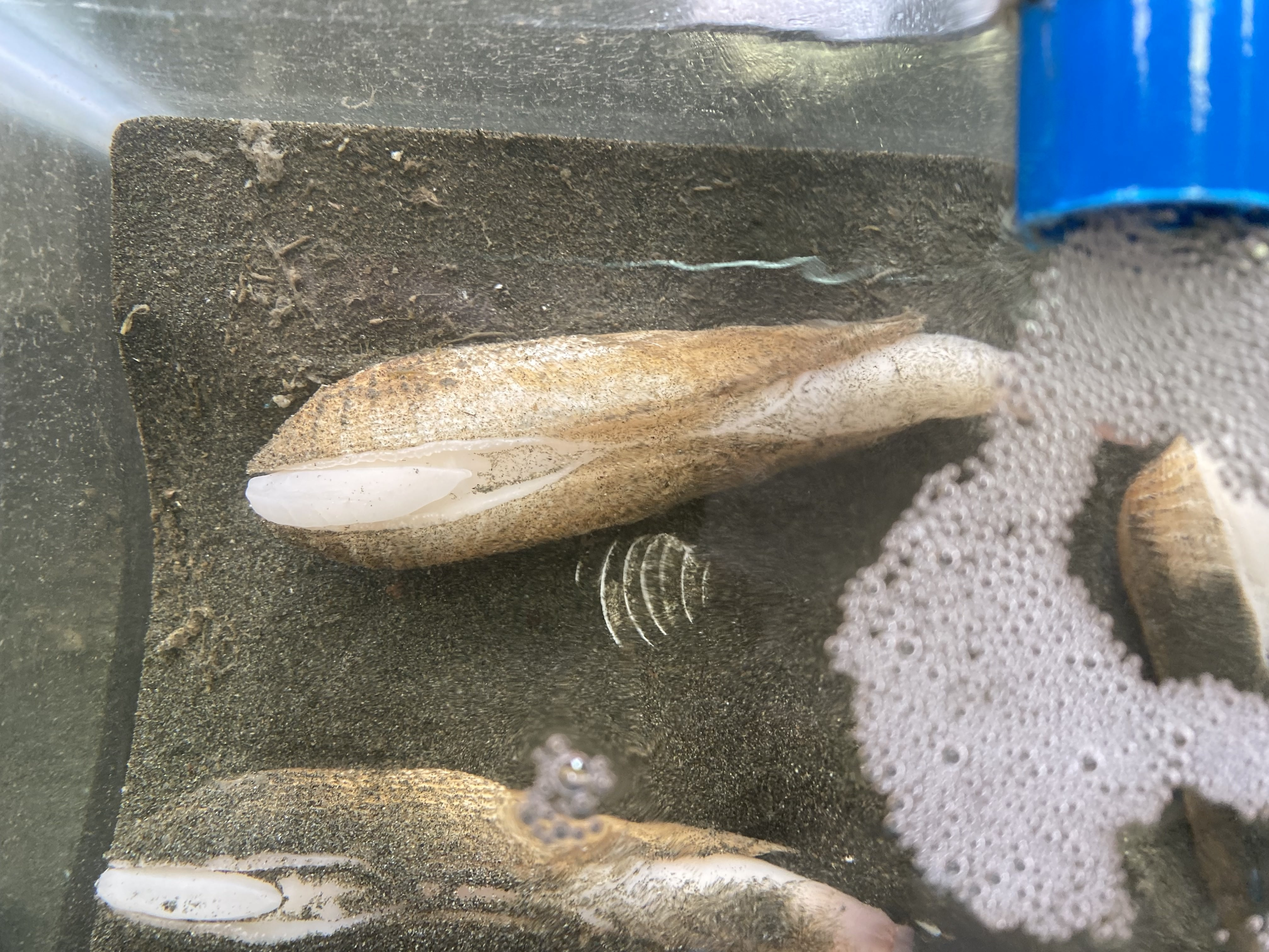Healthy: (246, 312, 1010, 568), (96, 737, 912, 952)
